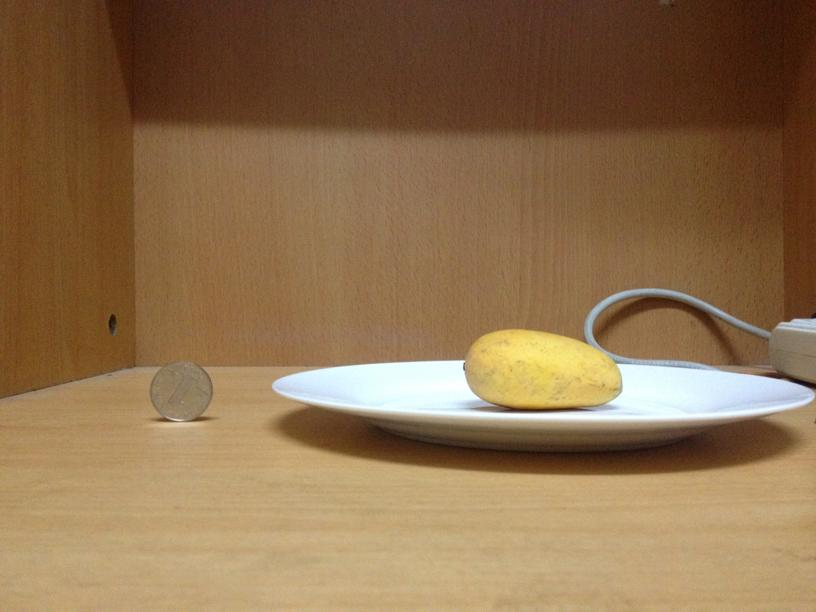coin: (148, 359, 212, 422)
mango: (462, 327, 624, 409)
